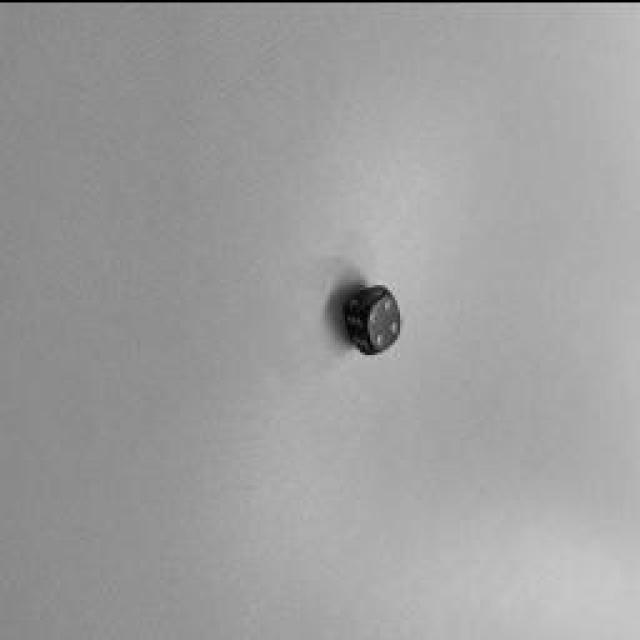dice_4: (369, 292, 401, 348)
